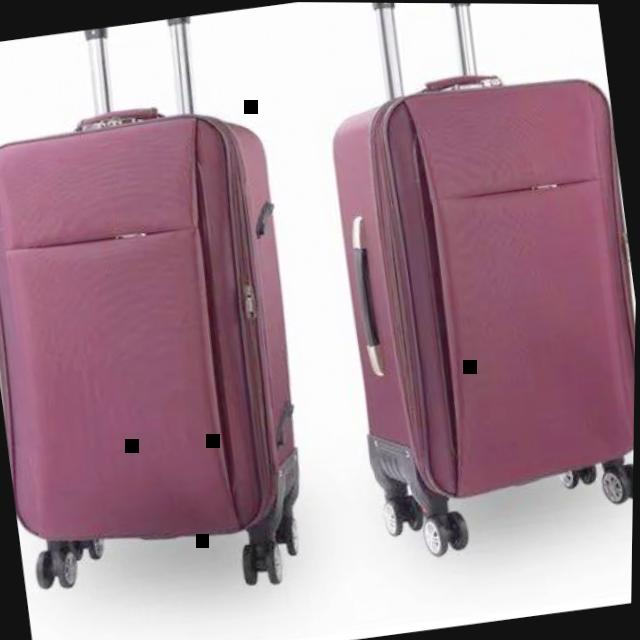luggage: (304, 47, 639, 524), (0, 82, 327, 566)
